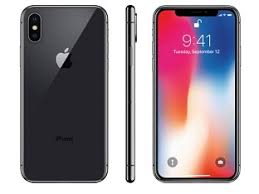iphone: (20, 2, 109, 182), (151, 3, 240, 183)
iphone10: (20, 3, 109, 183), (152, 4, 241, 184)
